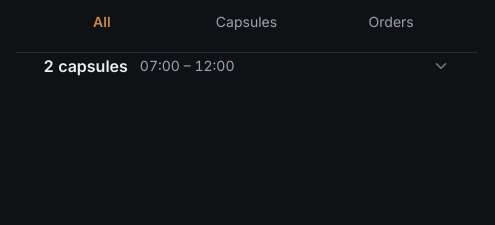
Test case: expanding a collapsed day reveals each cup with its own delete control
Click the button at (93, 66), box left=32, top=44, right=462, bottom=88
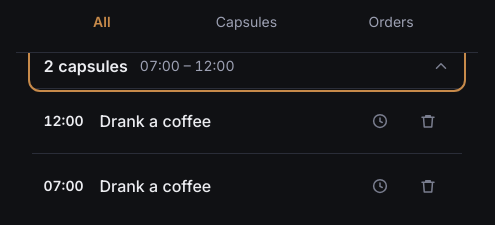
Expected: the text "Drank a coffee" is shown 2 times, left=100, top=111, right=211, bottom=131; left=100, top=176, right=211, bottom=196
Expected: the number of buttons named "Delete entry" is 2, left=406, top=99, right=450, bottom=143; left=406, top=164, right=450, bottom=208
